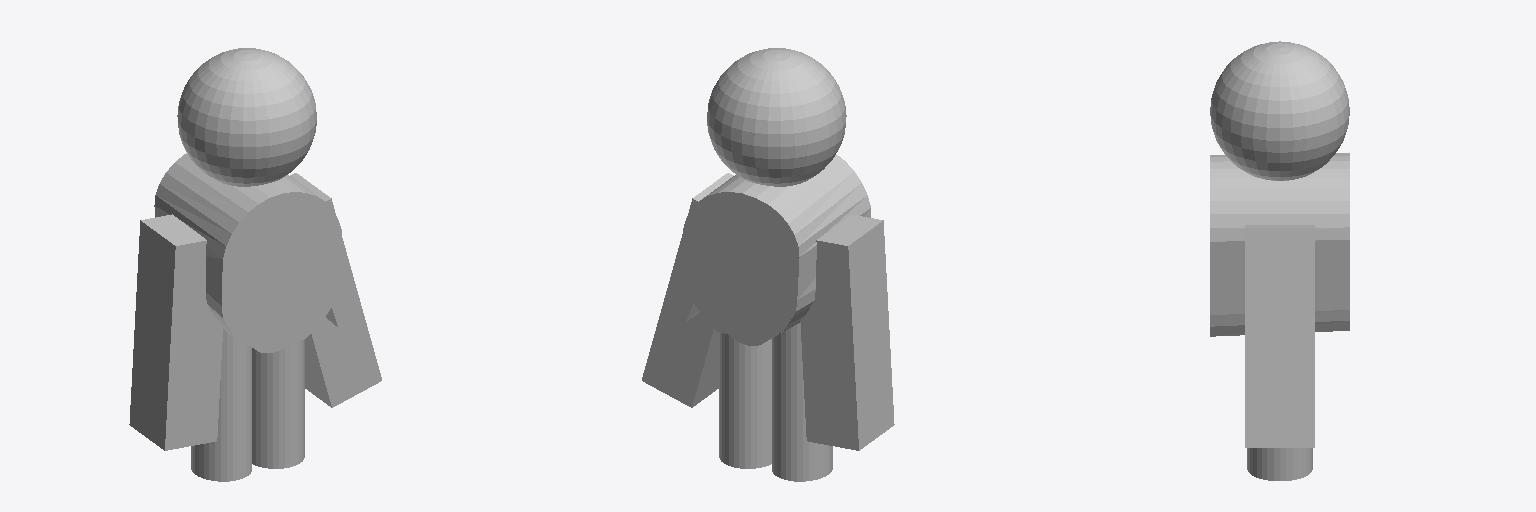
File: Figurine61.obj
The picture shows the model from 3 angles: view 1: azimuth 30°, elevation 25°; view 2: azimuth 150°, elevation 25°; view 3: azimuth 270°, elevation 25°; orthographic projection.
Parts seen in each view (by area): view 1: Cylinder; view 2: Cylinder; view 3: Cylinder.
Boxes of the visible parts, <box> form: Cylinder: <box>129,48,381,481</box>; Cylinder: <box>642,48,894,481</box>; Cylinder: <box>1210,41,1349,480</box>.
Size of the model in its own units: 3.59 by 6.42 by 2.